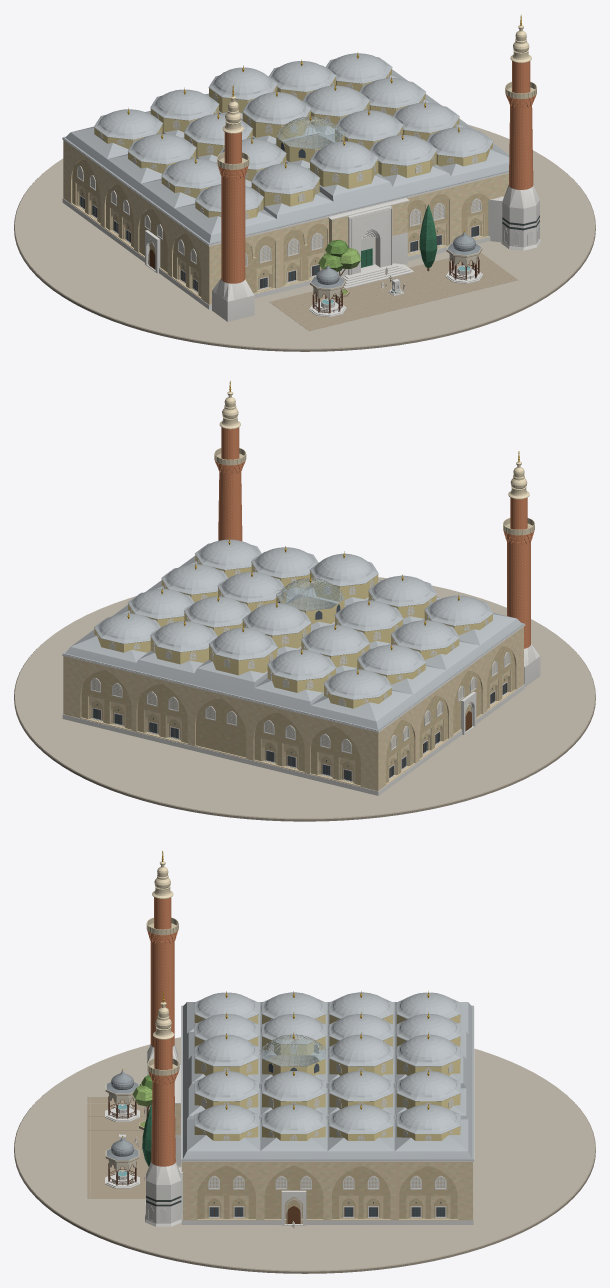
The model's file is ulu-cami_v27_sunum.glb.
The picture shows the model from 3 angles, top to bottom: view 1: azimuth 30°, elevation 25°; view 2: azimuth 150°, elevation 25°; view 3: azimuth 270°, elevation 25°; orthographic projection.
Visible parts, largest first — view 1: Zemin_Kaide, Kubbeler_19, Cati, Cephe_Kuzey, Cephe_Dogu, Minare_1, Zemin_Avlu_Tas, Minare_2, Pencere_Girintileri, Tac_Kapi, Sadirvan_Kubbe, Giris_Cikintili_Blok (+10 smaller); view 2: Zemin_Kaide, Kubbeler_19, Cephe_Guney, Cati, Cephe_Dogu, Pencere_Girintileri, Minare_2, Minare_1, Mermer_Bant, Sadirvan_Kubbe, Kasnak_Pencereleri, Silme_Ust (+2 smaller); view 3: Zemin_Kaide, Kubbeler_19, Cephe_Bati, Cati, Minare_1, Zemin_Avlu_Tas, Minare_2, Pencere_Girintileri, Sadirvan_Kubbe, Kasnak_Pencereleri, Mermer_Bant, Avlu_Sadirvan_Bati (+5 smaller).
Part boxes in pixels (<box>): Zemin_Kaide: <box>14,124,595,351</box>; Kubbeler_19: <box>94,53,493,219</box>; Cati: <box>62,69,509,244</box>; Cephe_Kuzey: <box>208,173,508,304</box>; Cephe_Dogu: <box>64,141,208,304</box>; Minare_1: <box>488,14,540,250</box>; Zemin_Avlu_Tas: <box>269,252,517,331</box>; Minare_2: <box>212,85,254,321</box>; Pencere_Girintileri: <box>76,182,484,295</box>; Tac_Kapi: <box>342,206,413,288</box>; Sadirvan_Kubbe: <box>276,117,344,162</box>; Giris_Cikintili_Blok: <box>328,198,409,277</box>; Zemin_Kaide: <box>14,577,595,821</box>; Kubbeler_19: <box>94,539,493,708</box>; Cephe_Guney: <box>63,656,378,790</box>; Cati: <box>63,556,524,731</box>; Cephe_Dogu: <box>379,627,523,790</box>; Pencere_Girintileri: <box>87,669,511,783</box>; Minare_2: <box>503,451,540,686</box>; Minare_1: <box>214,381,246,541</box>; Mermer_Bant: <box>62,684,524,795</box>; Sadirvan_Kubbe: <box>276,578,344,624</box>; Kasnak_Pencereleri: <box>97,560,488,706</box>; Silme_Ust: <box>62,624,525,732</box>; Zemin_Kaide: <box>14,1037,595,1273</box>; Kubbeler_19: <box>194,992,460,1140</box>; Cephe_Bati: <box>183,1162,471,1223</box>; Cati: <box>181,1002,473,1160</box>; Minare_1: <box>145,991,182,1226</box>; Zemin_Avlu_Tas: <box>87,1097,150,1198</box>; Minare_2: <box>146,850,178,1075</box>; Pencere_Girintileri: <box>204,1195,450,1218</box>; Sadirvan_Kubbe: <box>261,1035,325,1075</box>; Kasnak_Pencereleri: <box>201,1014,460,1140</box>; Mermer_Bant: <box>181,1162,473,1224</box>; Avlu_Sadirvan_Bati: <box>105,1136,139,1188</box>.
Size of the model in its own units: 111 by 48.52 by 111.
53 materials, 10 textured.
